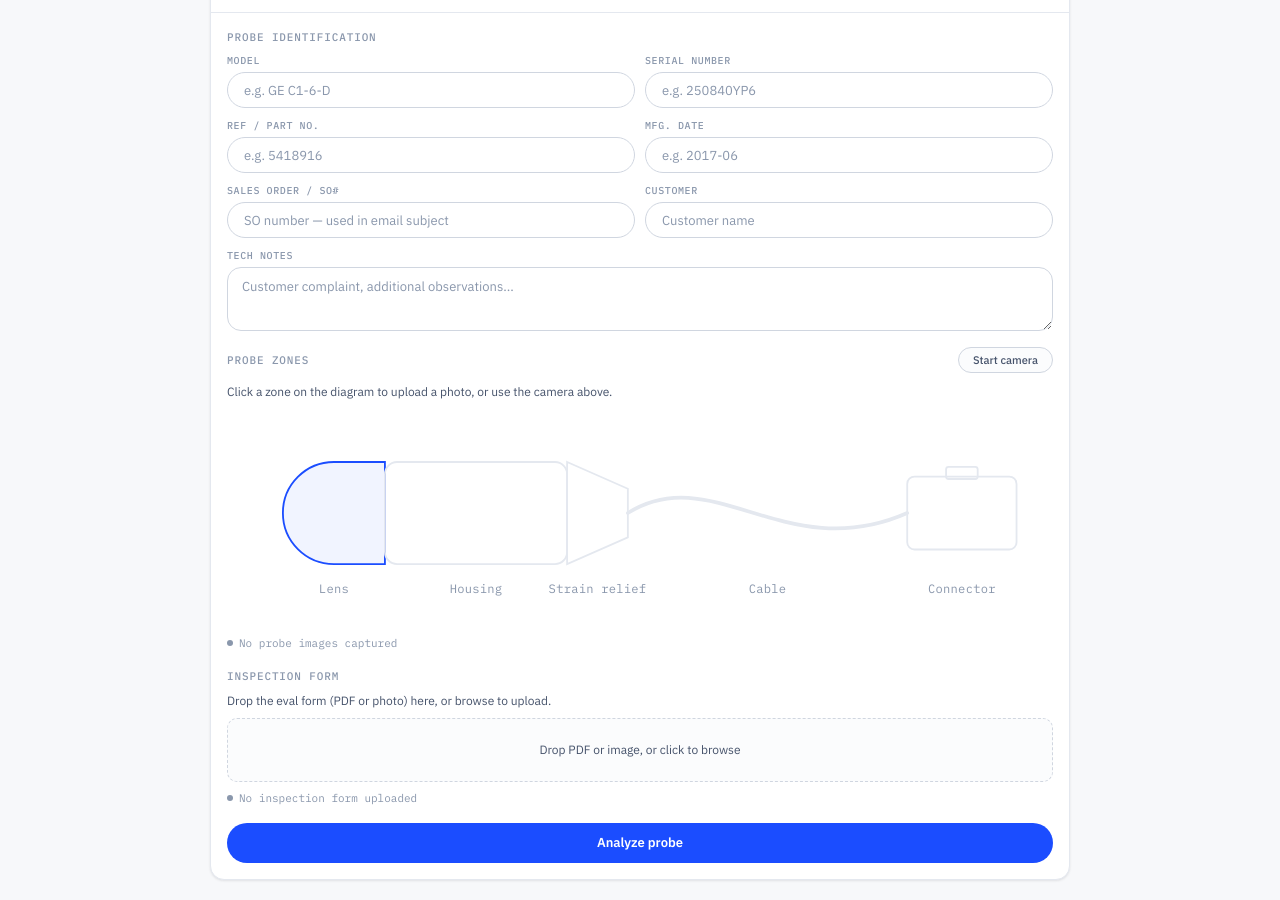
Scenario: intake → quote flow › switches to the quote view after a successful analyze
(page scrolled)
Click the button "Analyze probe" at (640, 843), box [227,823,1053,863]
(page scrolled)
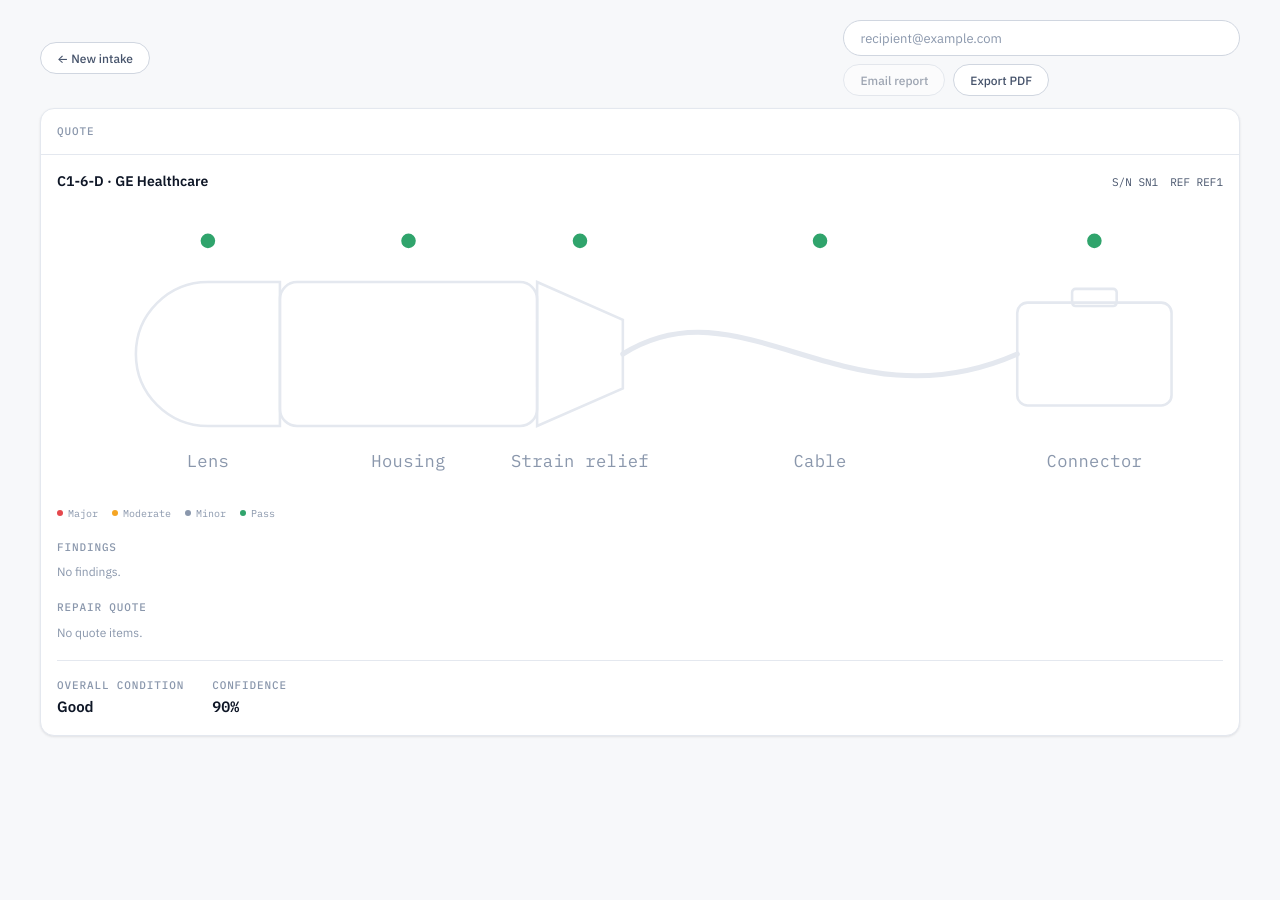
Expected: the heading "Quote" is shown, [57,123,94,140]
Expected: the button "Analyze probe" is gone
